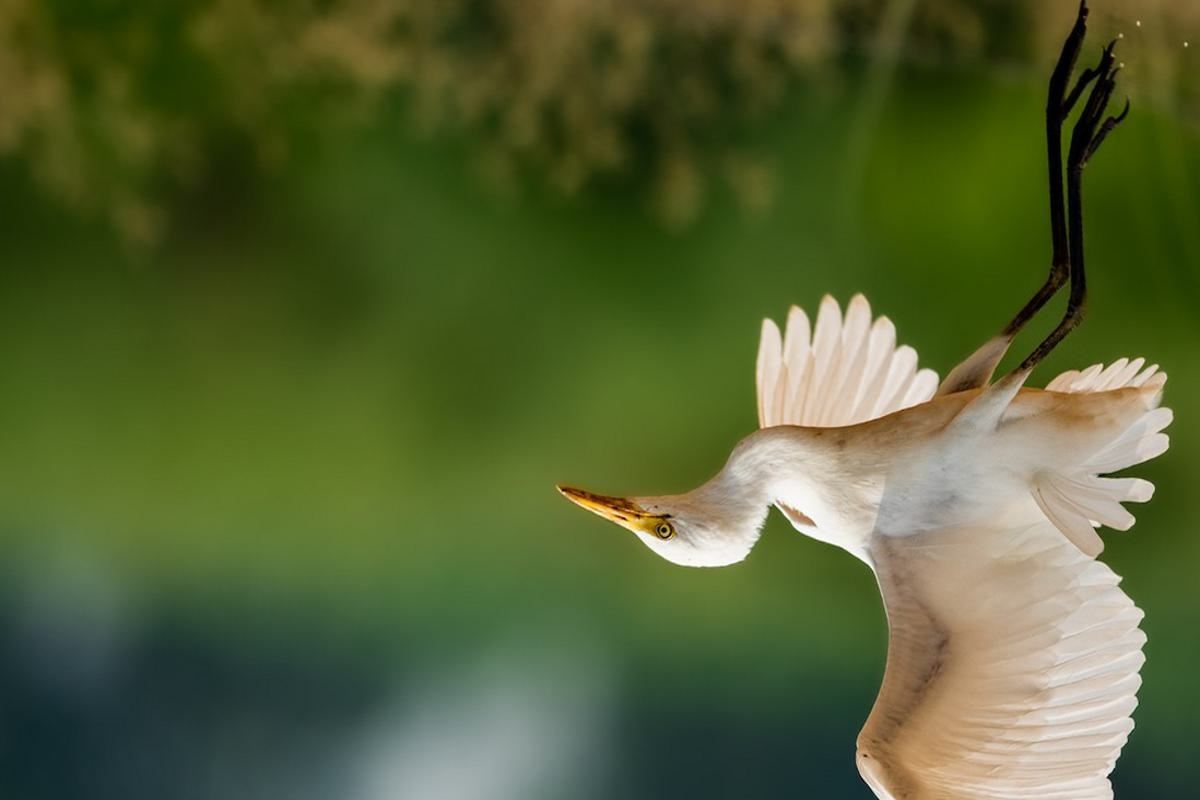egret: (565, 197, 1161, 800)
